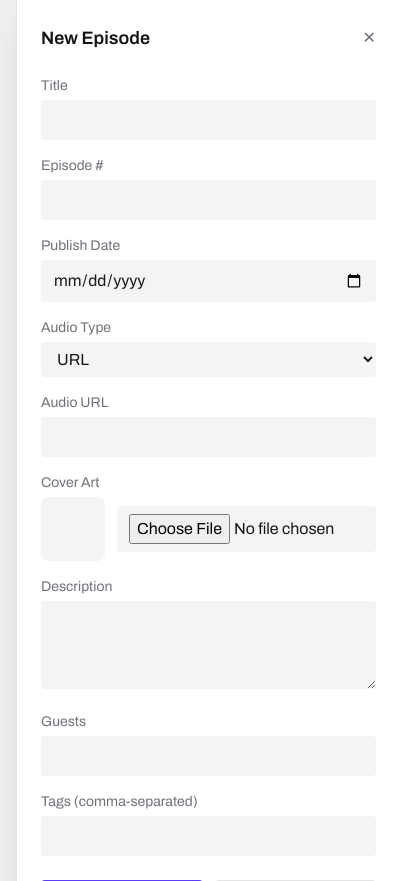
audio type upload › shows file input when audio type is upload
Select "Upload" in the dropdown labelled "Audio Type": (208, 360) [41, 342, 376, 377]
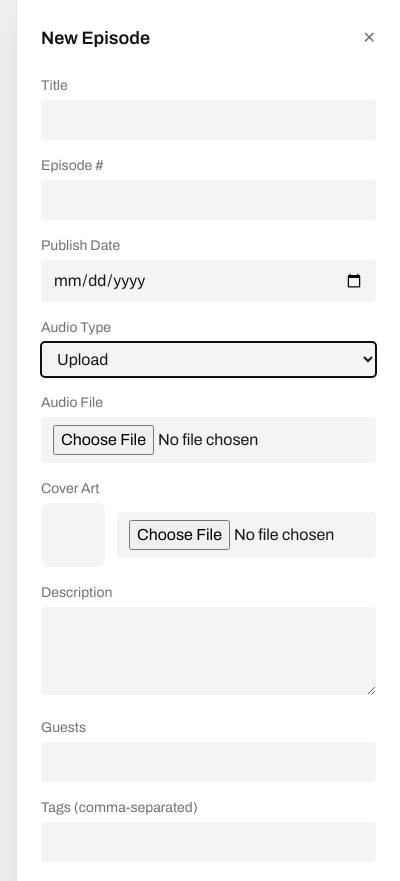
Expected: the file field labelled "Audio File" is shown, [41, 417, 376, 463]
Now the label labelled "Audio URL" is gone
